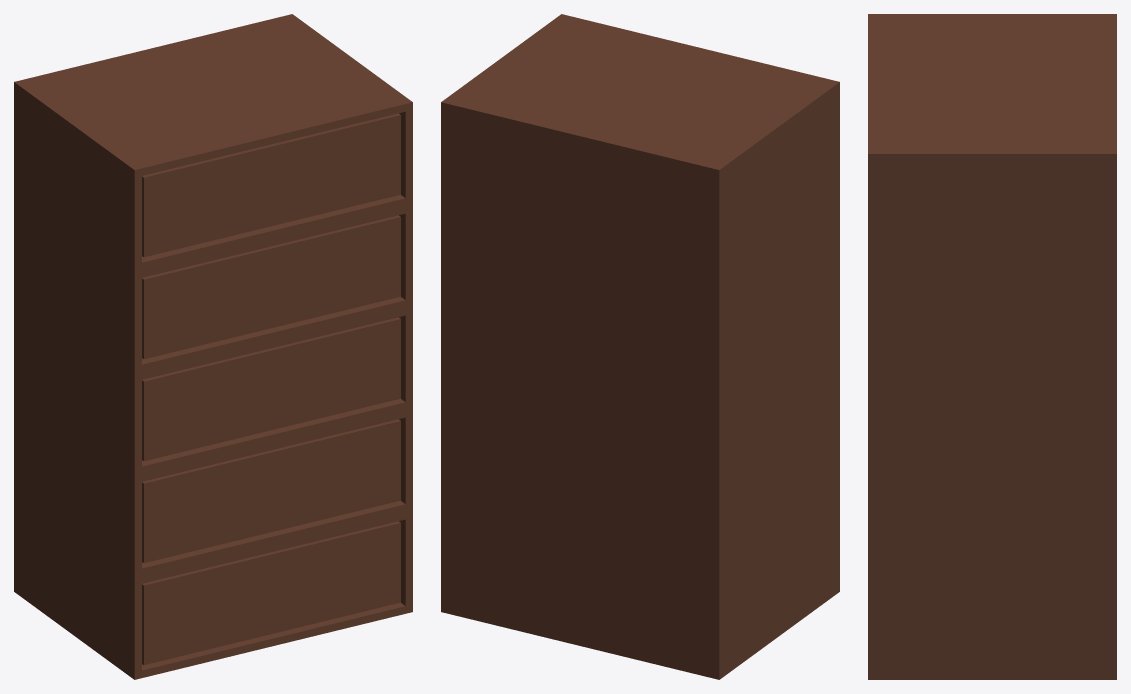
File: Cabinet_Drawers.fbx
The picture shows the model from 3 angles, left to right: view 1: azimuth 30°, elevation 25°; view 2: azimuth 150°, elevation 25°; view 3: azimuth 270°, elevation 25°; orthographic projection. The views are drawn at different scales.
Parts seen in each view (by area): view 1: Cabinet Drawers; view 2: Cabinet Drawers; view 3: Cabinet Drawers.
Part boxes in pixels (box(x1,y1,x2,y2)): Cabinet Drawers: box(14, 14, 412, 679); Cabinet Drawers: box(441, 14, 839, 679); Cabinet Drawers: box(868, 14, 1116, 679).
Size of the model in its own units: 100 by 175 by 75.
